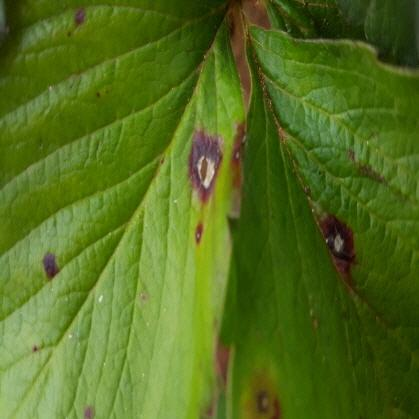Leaf Spot: (0, 0, 246, 418), (218, 20, 418, 418)
